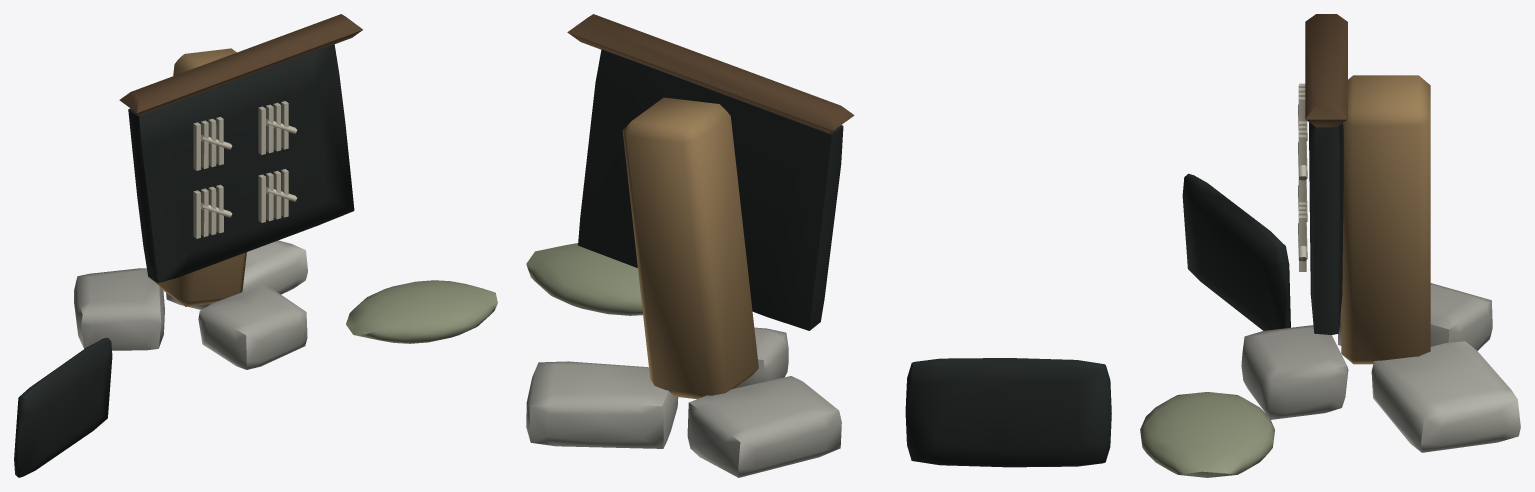
Rendered from tally_post_b_lod1.glb.
3 renders of one model, left to right at view 1: azimuth 30°, elevation 25°; view 2: azimuth 150°, elevation 25°; view 3: azimuth 270°, elevation 25°, orthographic. The views are drawn at different scales.
Parts seen in each view (by area): view 1: Surface.001; view 2: Surface.001; view 3: Surface.001.
Boxes of the visible parts, left/top/right/bottom form: Surface.001: left=14, top=14, right=497, bottom=477; Surface.001: left=526, top=14, right=1111, bottom=477; Surface.001: left=1140, top=14, right=1520, bottom=477.
Size of the model in its own units: 2.24 by 1.46 by 1.28.
